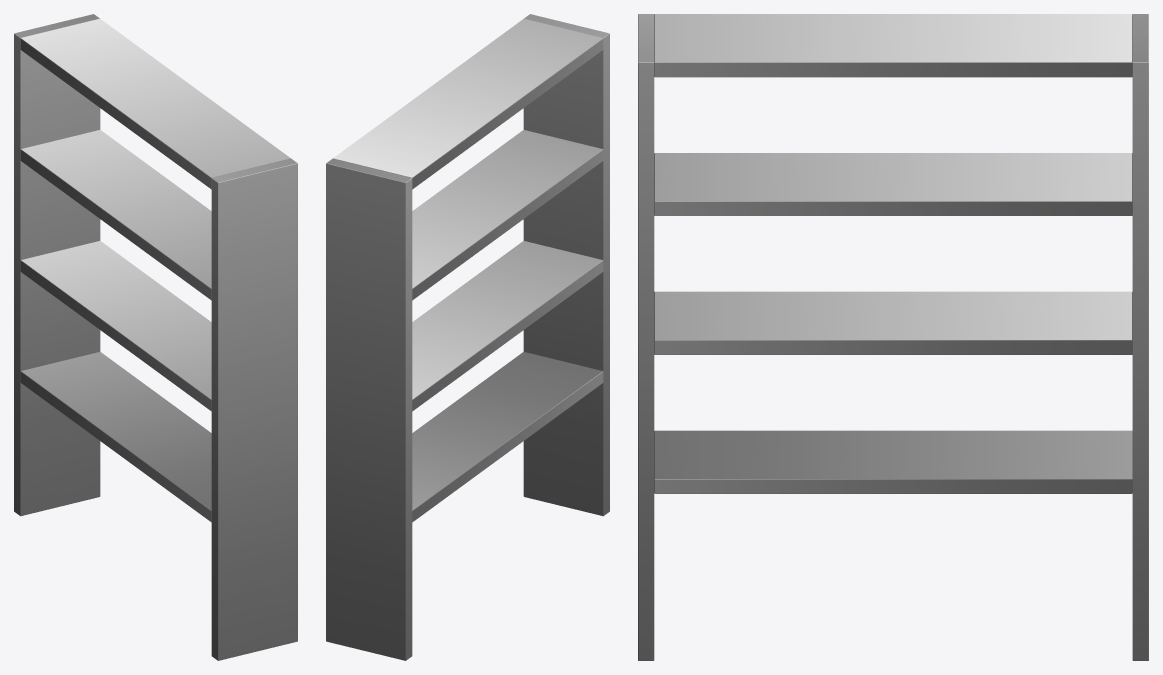
Rendered from Bookshelf.fbx.
3 views of the same model, side by side, from view 1: azimuth 30°, elevation 25°; view 2: azimuth 150°, elevation 25°; view 3: azimuth 270°, elevation 25° (orthographic). The views are drawn at different scales.
Parts seen in each view (by area): view 1: Bookshelf; view 2: Bookshelf; view 3: Bookshelf.
Boxes of the visible parts, x1=… form: Bookshelf: x1=14, y1=14, x2=297, y2=660; Bookshelf: x1=326, y1=14, x2=609, y2=660; Bookshelf: x1=638, y1=14, x2=1148, y2=660.
Bounding box in the file's own units: 62.4 × 356 × 275.
1 material, 1 textured.
